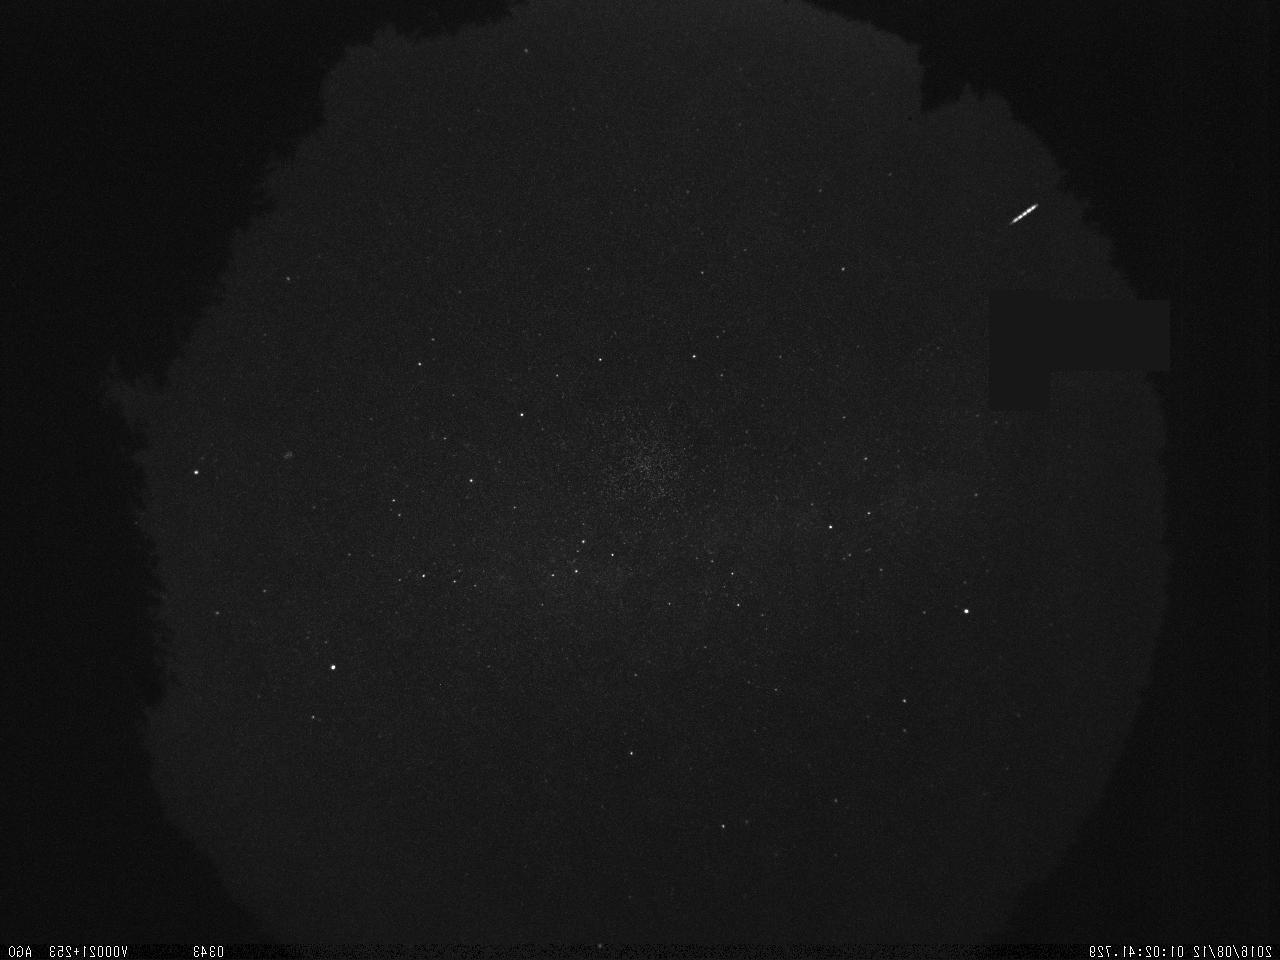meteor: (978, 194, 1043, 245)
